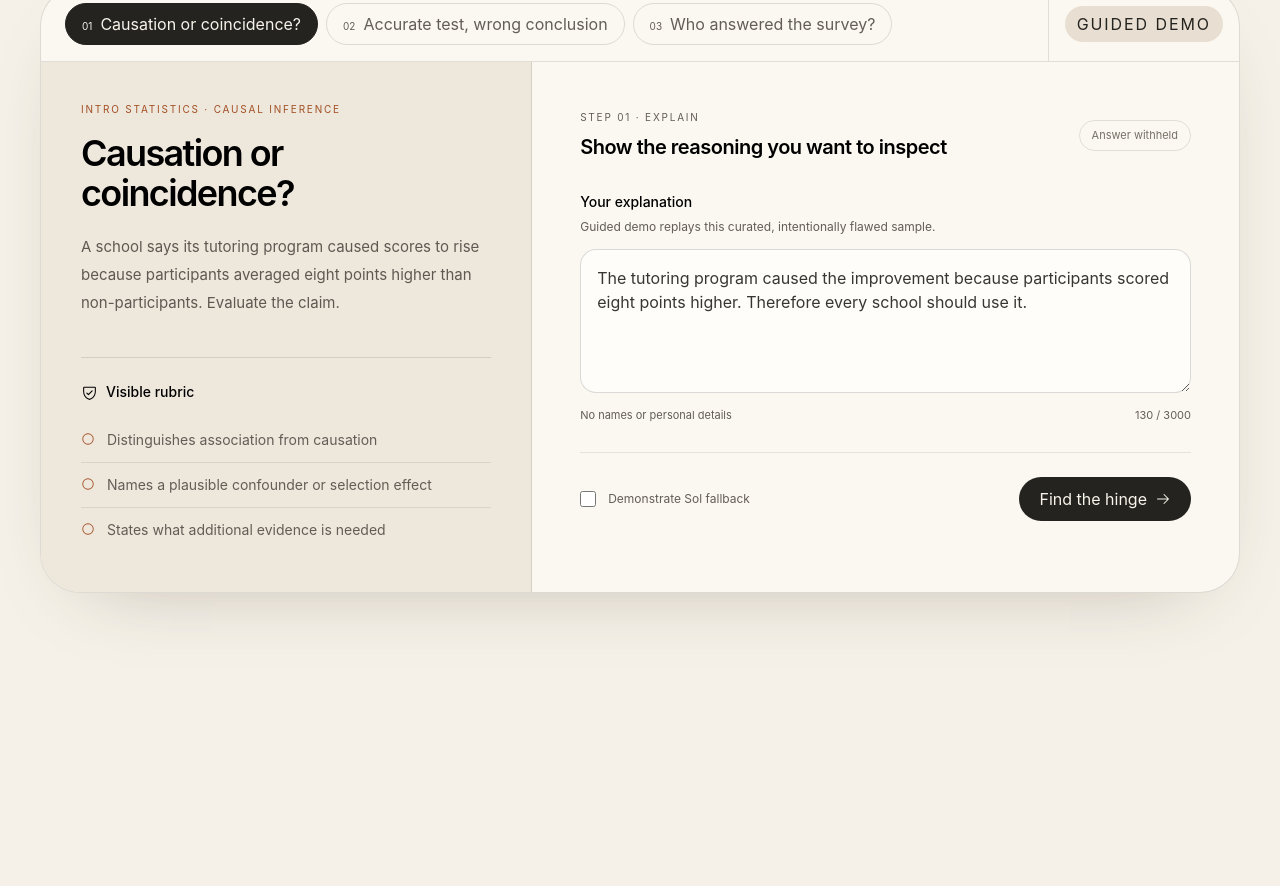
RepairStudio › labels demo orchestration as a recorded fixture trace
Step 1. Click the checkbox labelled "Demonstrate Sol fallback" → {"x": 588, "y": 498}, box left=580, top=490, right=596, bottom=506
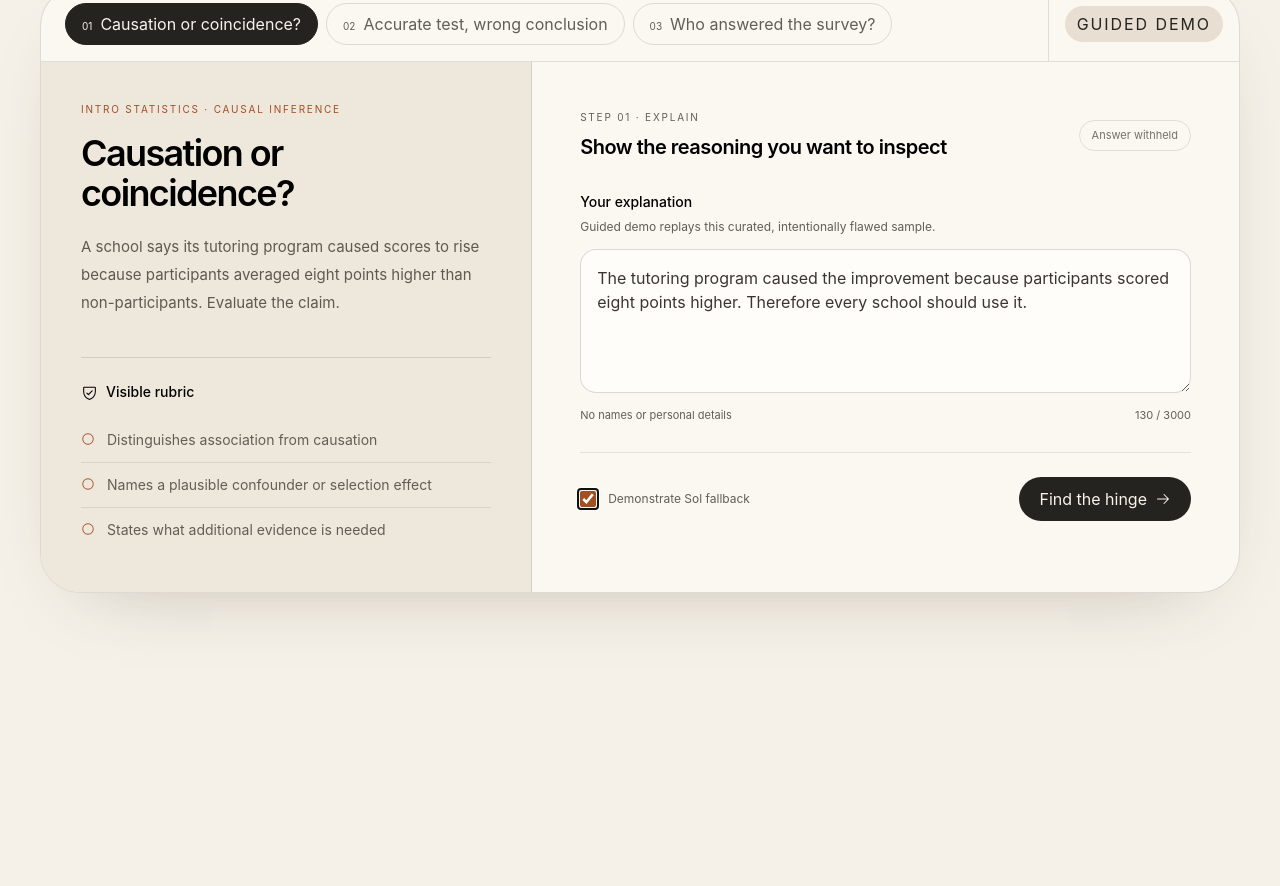
Step 2. Click the button "Find the hinge" → {"x": 1105, "y": 498}, box left=1020, top=476, right=1191, bottom=520
(page scrolled)
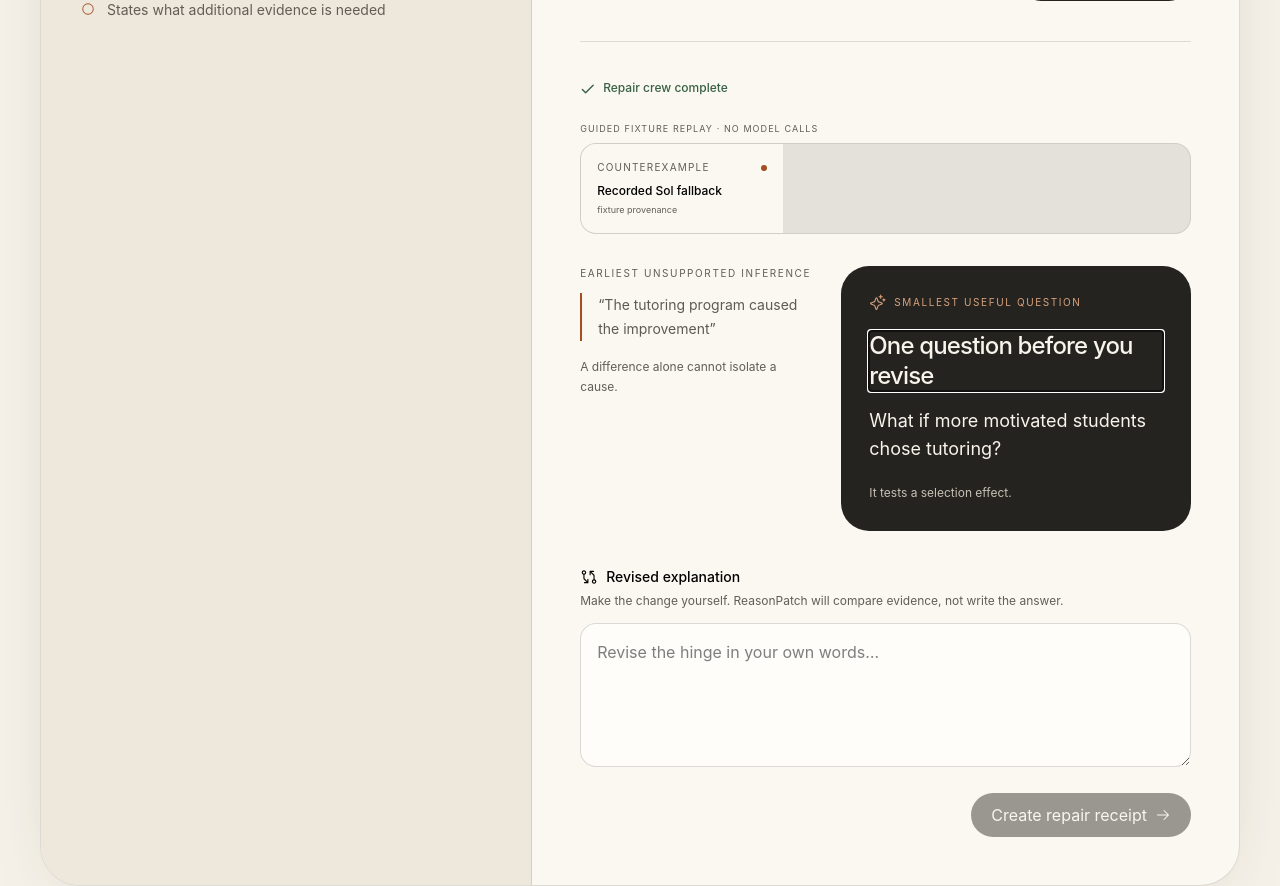
Now the text "Recorded Sol fallback" is shown, box left=597, top=183, right=722, bottom=198
Now the text "Guided fixture replay · no model calls" is shown, box left=580, top=122, right=818, bottom=134
